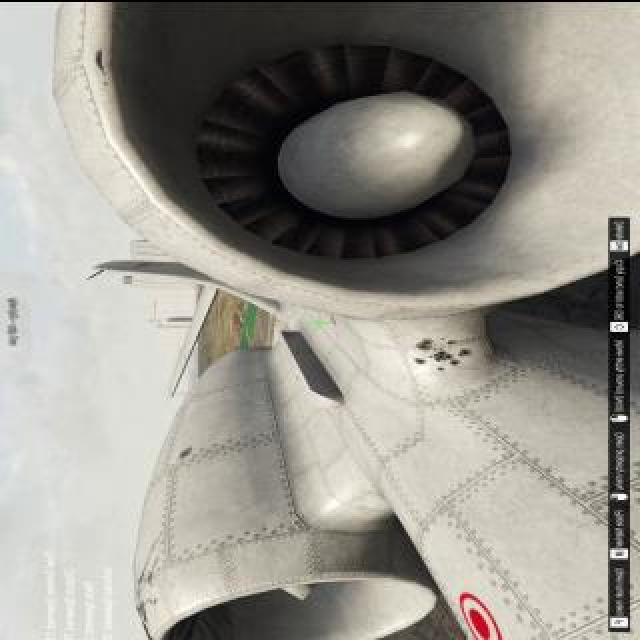crack: (177, 442, 197, 460), (419, 338, 439, 350), (436, 352, 454, 360), (415, 357, 427, 365), (462, 348, 470, 356), (454, 360, 462, 366), (447, 340, 457, 344), (440, 366, 448, 370)
